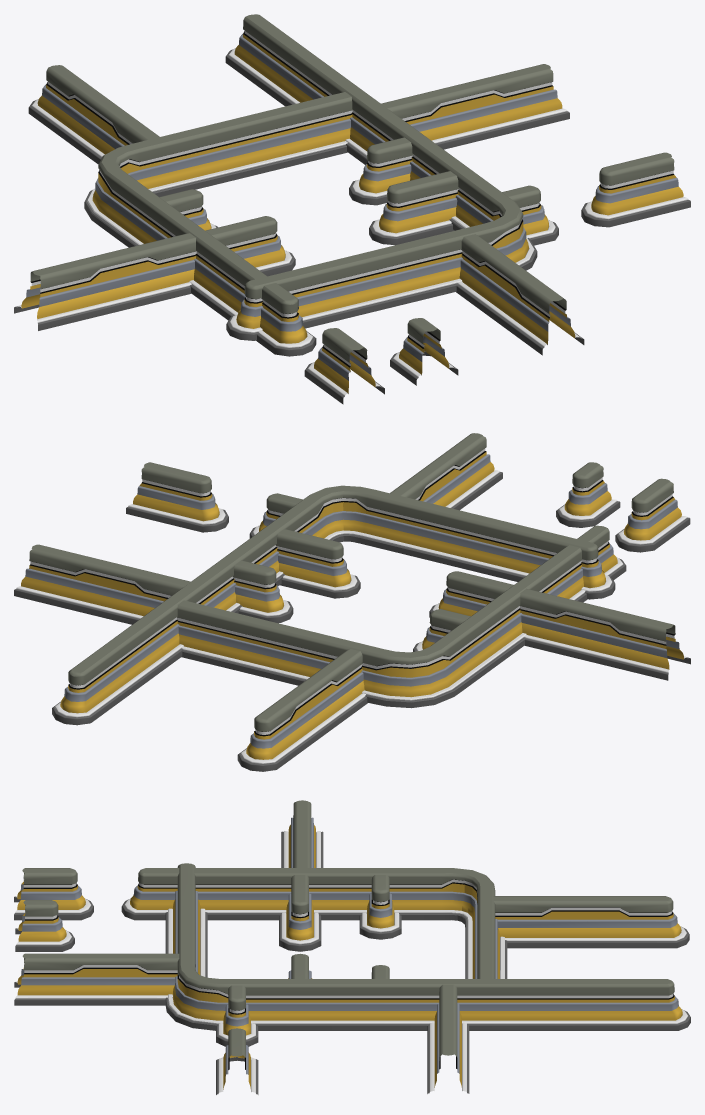
Rendered from Small walls.fbx.
3 renders of one model, top to bottom at view 1: azimuth 30°, elevation 25°; view 2: azimuth 150°, elevation 25°; view 3: azimuth 270°, elevation 25°, orthographic. The views are drawn at different scales.
Visible parts, largest first — view 1: Small_wall_L97, Small_wall_L98, Small_wallv1_11, Small_wallvL1, Small_wallvL3, Small_wallv1_62, Small_wallv1_64, Small_wallv1_66, Small_wallv1_65, Small_wallv1_67, Small_wallv1_69, Small_wallv1_70 (+2 smaller); view 2: Small_wall_L97, Small_wall_L98, Small_wallv1_11, Small_wallvL1, Small_wallv1_62, Small_wallv1_64, Small_wallvL3, Small_wallv1_66, Small_wallv1_65, Small_wallv1_70, Small_wallv1_69, Small_wallv1_67 (+2 smaller); view 3: Small_wall_L97, Small_wall_L98, Small_wallv1_62, Small_wallvL3, Small_wallvL1, Small_wallv1_65, Small_wallv1_67, Small_wallv1_70, Small_wallv1_11, Small_wallv1_68, Small_wallv1_63, Small_wallv1_64 (+1 smaller).
Part boxes in pixels (<box>): Small_wall_L97: <box>225,14,537,340</box>; Small_wall_L98: <box>84,92,352,356</box>; Small_wallv1_11: <box>14,233,196,330</box>; Small_wallvL1: <box>381,64,569,149</box>; Small_wallvL3: <box>456,234,584,355</box>; Small_wallv1_62: <box>28,65,159,164</box>; Small_wallv1_64: <box>581,152,690,227</box>; Small_wallv1_66: <box>369,171,459,245</box>; Small_wallv1_65: <box>304,328,384,404</box>; Small_wallv1_67: <box>205,216,295,276</box>; Small_wallv1_69: <box>349,137,413,205</box>; Small_wallv1_70: <box>390,318,458,385</box>; Small_wall_L97: <box>52,485,615,725</box>; Small_wall_L98: <box>177,525,626,708</box>; Small_wallv1_11: <box>520,588,690,680</box>; Small_wallvL1: <box>14,544,190,624</box>; Small_wallv1_62: <box>237,649,367,771</box>; Small_wallv1_64: <box>126,462,228,532</box>; Small_wallvL3: <box>390,433,502,510</box>; Small_wallv1_66: <box>275,529,360,598</box>; Small_wallv1_65: <box>615,478,690,552</box>; Small_wallv1_70: <box>556,462,620,527</box>; Small_wallv1_69: <box>232,560,293,623</box>; Small_wallv1_67: <box>429,571,513,617</box>; Small_wall_L97: <box>165,863,690,1030</box>; Small_wall_L98: <box>121,868,507,978</box>; Small_wallv1_62: <box>493,896,689,948</box>; Small_wallvL3: <box>14,953,179,1005</box>; Small_wallvL1: <box>427,984,469,1093</box>; Small_wallv1_65: <box>14,868,93,920</box>; Small_wallv1_67: <box>279,875,321,951</box>; Small_wallv1_70: <box>15,900,74,951</box>; Small_wallv1_11: <box>281,800,323,867</box>; Small_wallv1_68: <box>359,875,401,939</box>; Small_wallv1_63: <box>216,985,258,1046</box>; Small_wallv1_64: <box>216,1028,258,1094</box>.
Bounding box in the file's own units: 509 × 38.8 × 553.
